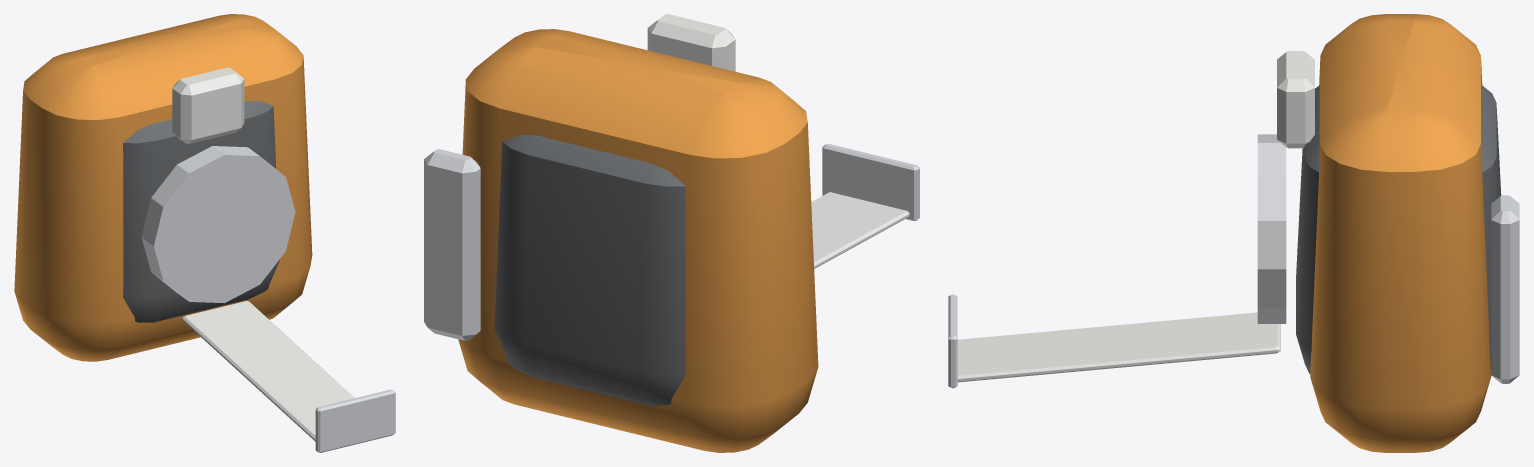
The picture shows the model from 3 angles, left to right: view 1: azimuth 30°, elevation 25°; view 2: azimuth 150°, elevation 25°; view 3: azimuth 270°, elevation 25°; orthographic projection. The views are drawn at different scales.
Visible parts, largest first — view 1: tape-measure; view 2: tape-measure; view 3: tape-measure.
Boxes of the visible parts, x1,y1,x2,y2 form: tape-measure: (14, 14, 395, 452); tape-measure: (424, 14, 919, 452); tape-measure: (948, 14, 1519, 452).
Bounding box in the file's own units: 0.076 × 0.078 × 0.12.
